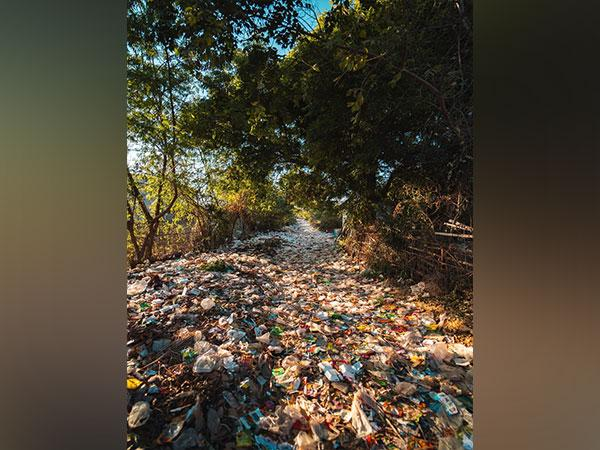garbage: (129, 251, 450, 450)
